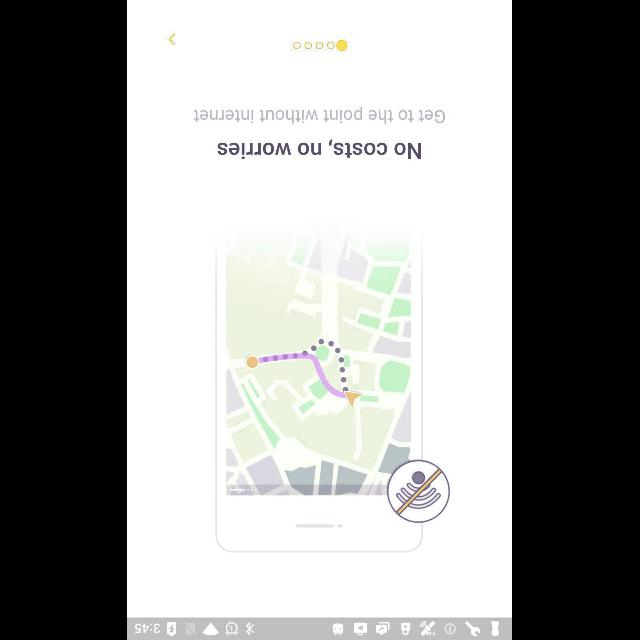icon: (170, 34, 177, 46)
image: (216, 222, 450, 552)
pageindicator: (294, 40, 348, 52)
text: (194, 106, 446, 124), (218, 139, 422, 159)
uppertaskbar: (128, 617, 512, 639)
